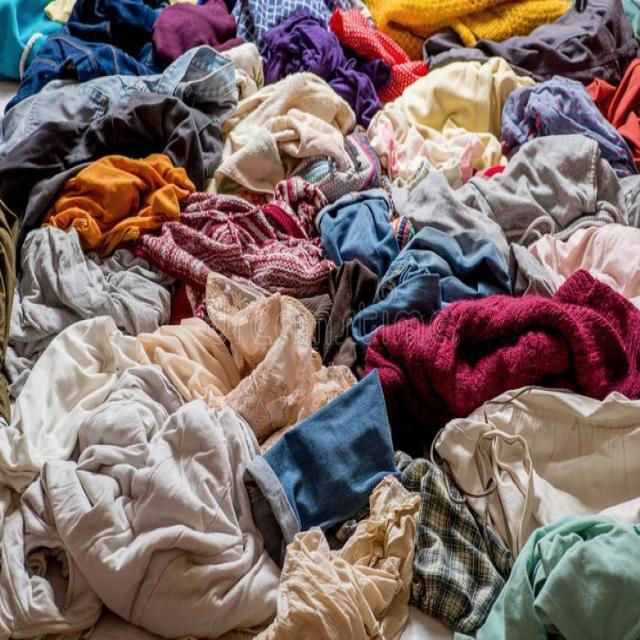clothes: (5, 314, 276, 640), (433, 384, 640, 564), (240, 374, 400, 556), (242, 485, 410, 640), (390, 441, 508, 640), (152, 175, 332, 304), (312, 196, 495, 322), (470, 510, 640, 640), (5, 135, 193, 244), (6, 47, 238, 132), (242, 9, 388, 130), (496, 68, 636, 184), (365, 0, 590, 61)
